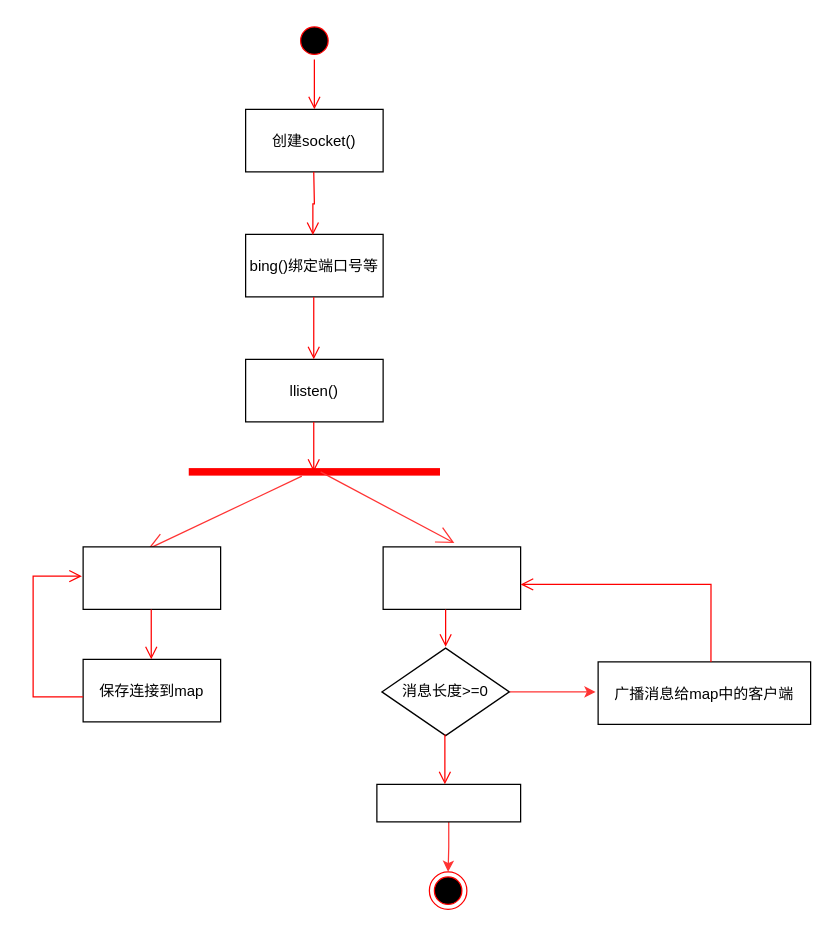
The diagram is 833 pixels wide and 931 high, and some of its shapes have lost their labels. The centre of each missing label's shape, as x and y in pixels:
接受消息 recv(): point (451, 577)
接收连接 accept(): point (151, 577)
断开连接: point (448, 802)
